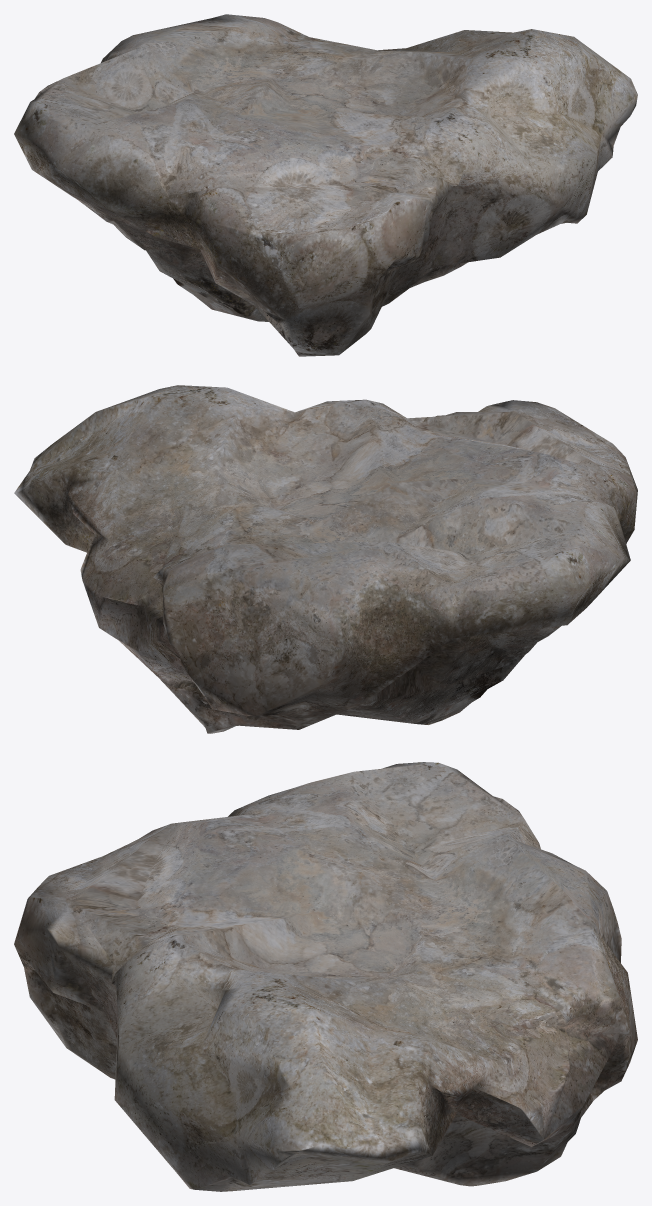
File: rock 3.gltf
3 views of the same model, one above another, from view 1: azimuth 30°, elevation 25°; view 2: azimuth 150°, elevation 25°; view 3: azimuth 270°, elevation 25° (orthographic). The views are drawn at different scales.
Visible parts, largest first — view 1: S_Coral_Stone_wfbmej3r_lod3_Var1_LOD0; view 2: S_Coral_Stone_wfbmej3r_lod3_Var1_LOD0; view 3: S_Coral_Stone_wfbmej3r_lod3_Var1_LOD0.
Boxes of the visible parts, x1=… form: S_Coral_Stone_wfbmej3r_lod3_Var1_LOD0: x1=14, y1=14, x2=637, y2=356; S_Coral_Stone_wfbmej3r_lod3_Var1_LOD0: x1=14, y1=385, x2=637, y2=733; S_Coral_Stone_wfbmej3r_lod3_Var1_LOD0: x1=14, y1=762, x2=637, y2=1191.
Bounding box in the file's own units: 11.77 × 4.69 × 9.66.
1 material, 1 textured.
